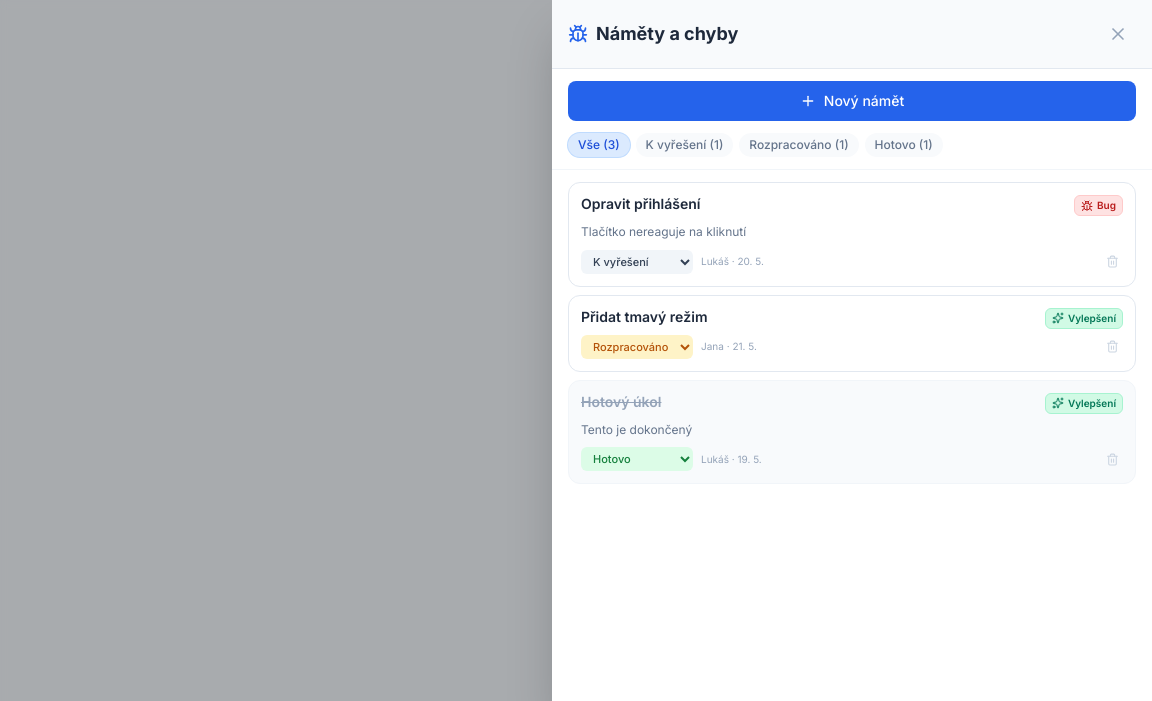
Test: IssueDrawer › clears form after successful submission
Click the button "Nový námět" at (852, 101), box [568,81,1136,121]
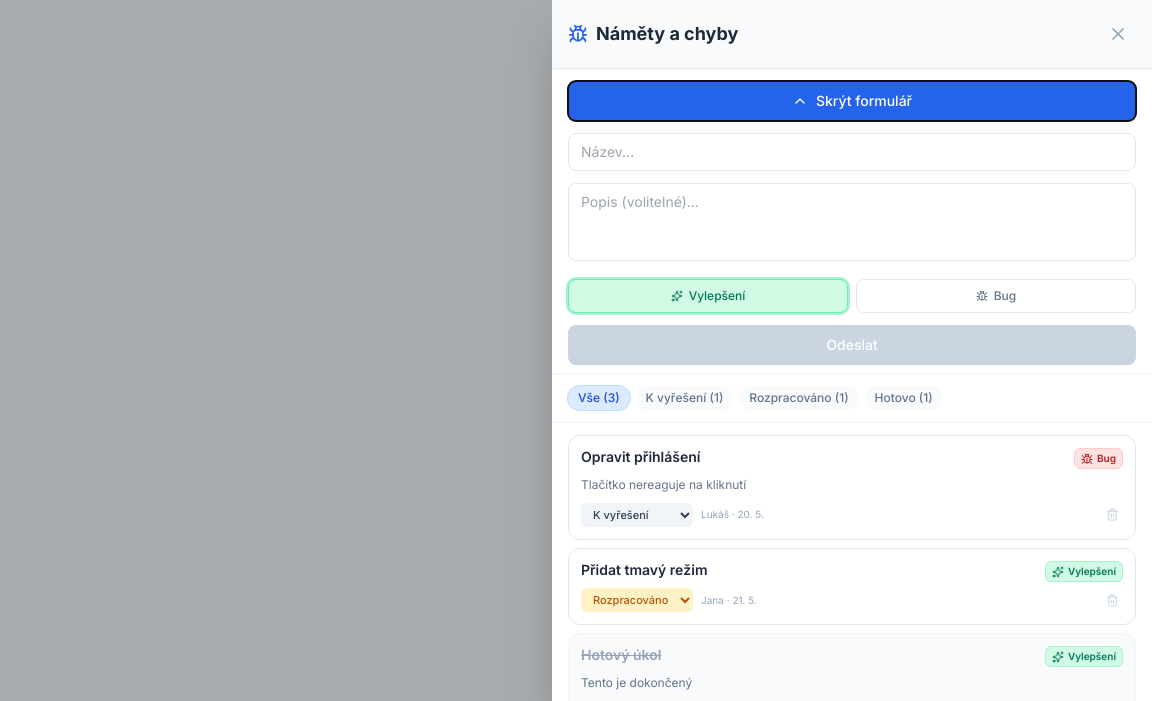
Type "Test" into the field with placeholder "Název..." at (852, 152), box [568,133,1136,171]
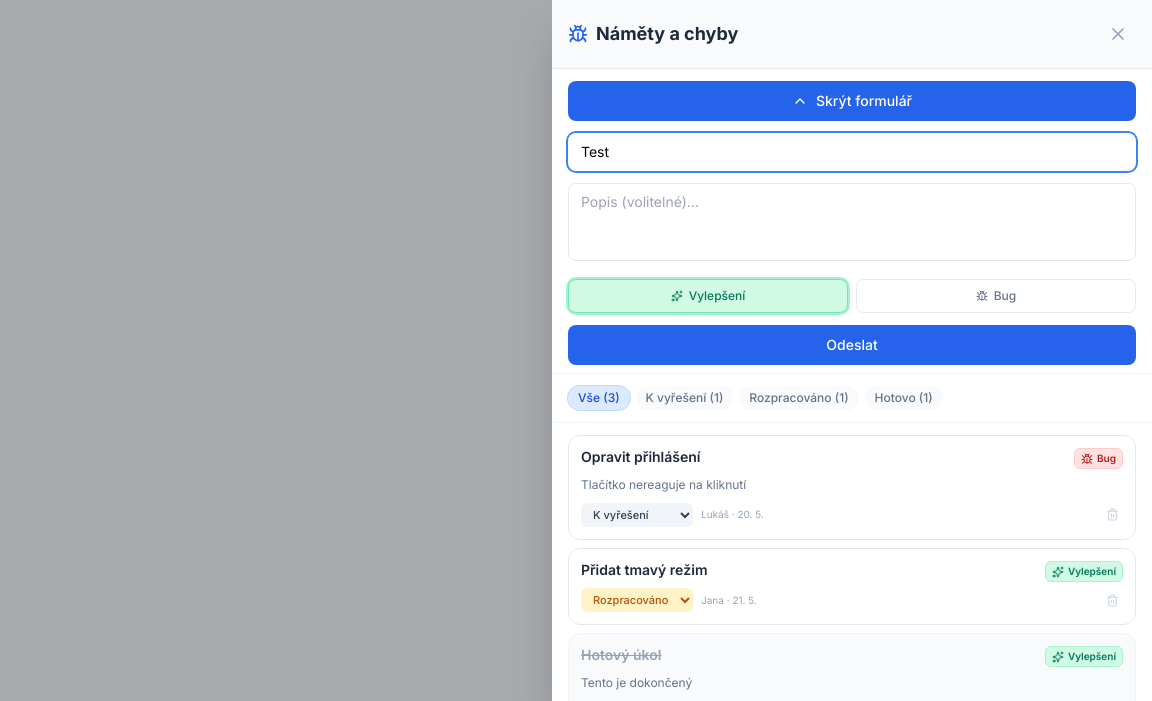
Click the button "Odeslat" at (852, 345), box [568,325,1136,365]
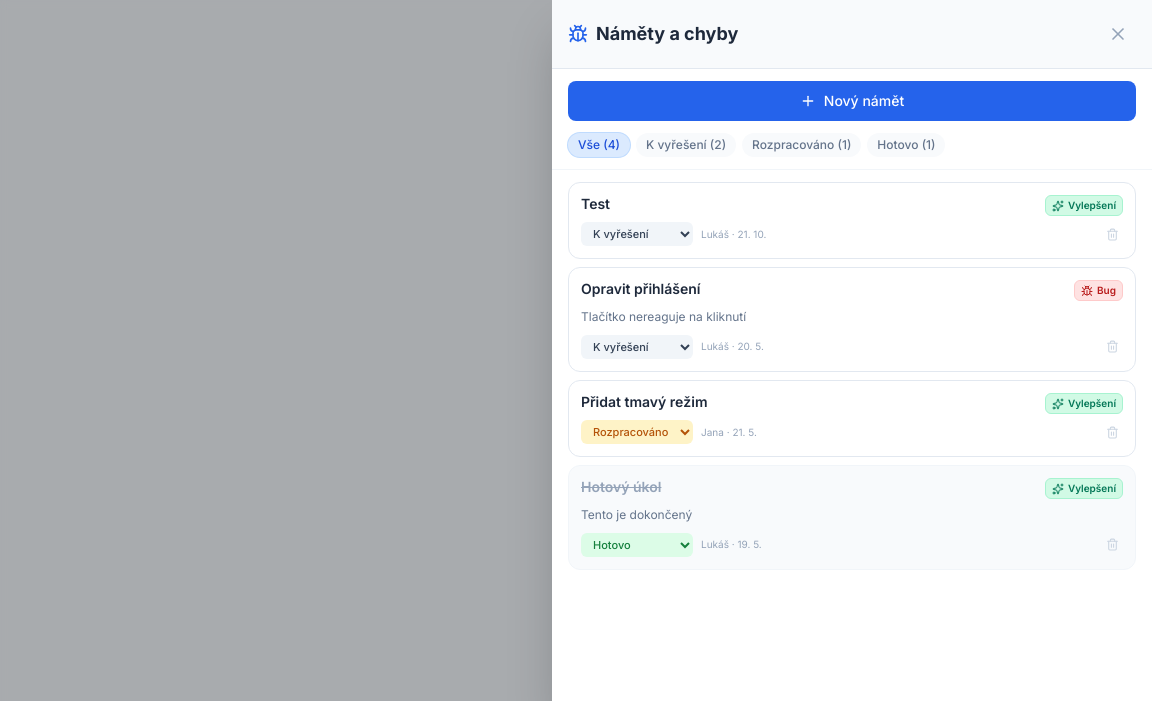
Result: the field with placeholder "Název..." is gone
